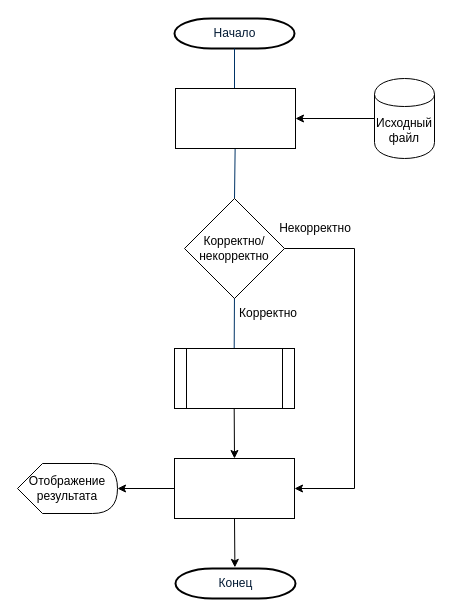
Image size: 452x616. Some labels were removed from this diagram. The shapes that lost their labels are listed below. From the top down, each one's centre as x and y in pixels, then its label:
At point 235,118: "Парсинг исходных данных".
At point 234,378: "Поиск кратчайшего маршрута (solve())".
At point 234,488: "Вывод результатов в консоль".
